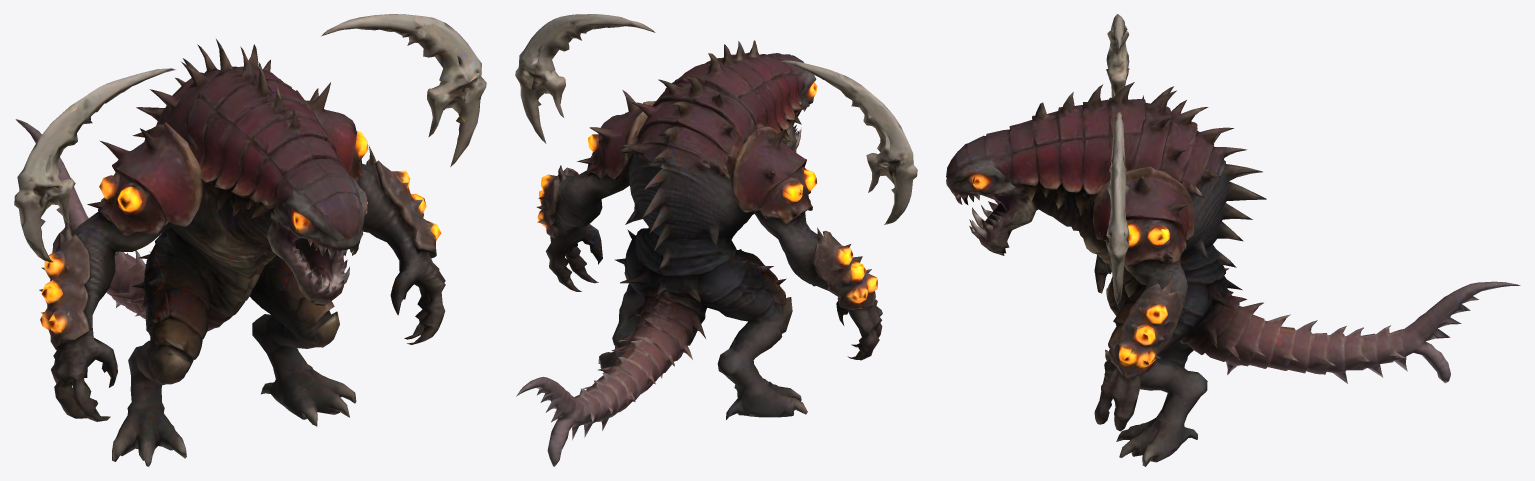
File: boss_ravager.glb
3 renders of one model, left to right at view 1: azimuth 30°, elevation 25°; view 2: azimuth 150°, elevation 25°; view 3: azimuth 270°, elevation 25°, orthographic. The views are drawn at different scales.
Visible parts, largest first — view 1: boss_ravager; view 2: boss_ravager; view 3: boss_ravager.
Part boxes in pixels (box(x1,y1,x2,y2)): boss_ravager: box(14, 14, 486, 466); boss_ravager: box(515, 14, 917, 466); boss_ravager: box(946, 14, 1520, 466).
Bounding box in the file's own units: 1.24 × 1 × 1.53.
Materials: 1 (1 with a texture image).
